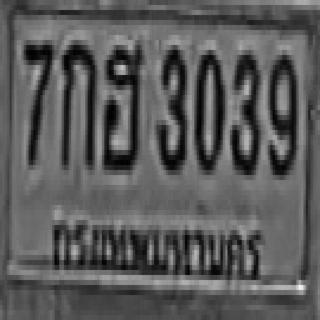A01: (59, 35, 95, 165)
A44: (101, 40, 141, 165)
N00: (192, 45, 223, 170)
N03: (154, 40, 185, 170), (230, 45, 258, 170)
N07: (21, 35, 52, 160)
N09: (267, 50, 295, 175)
P04: (51, 208, 268, 287)
